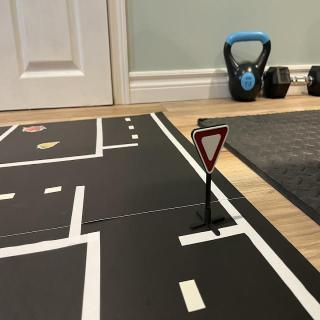sign_yield: (192, 126, 230, 175)
